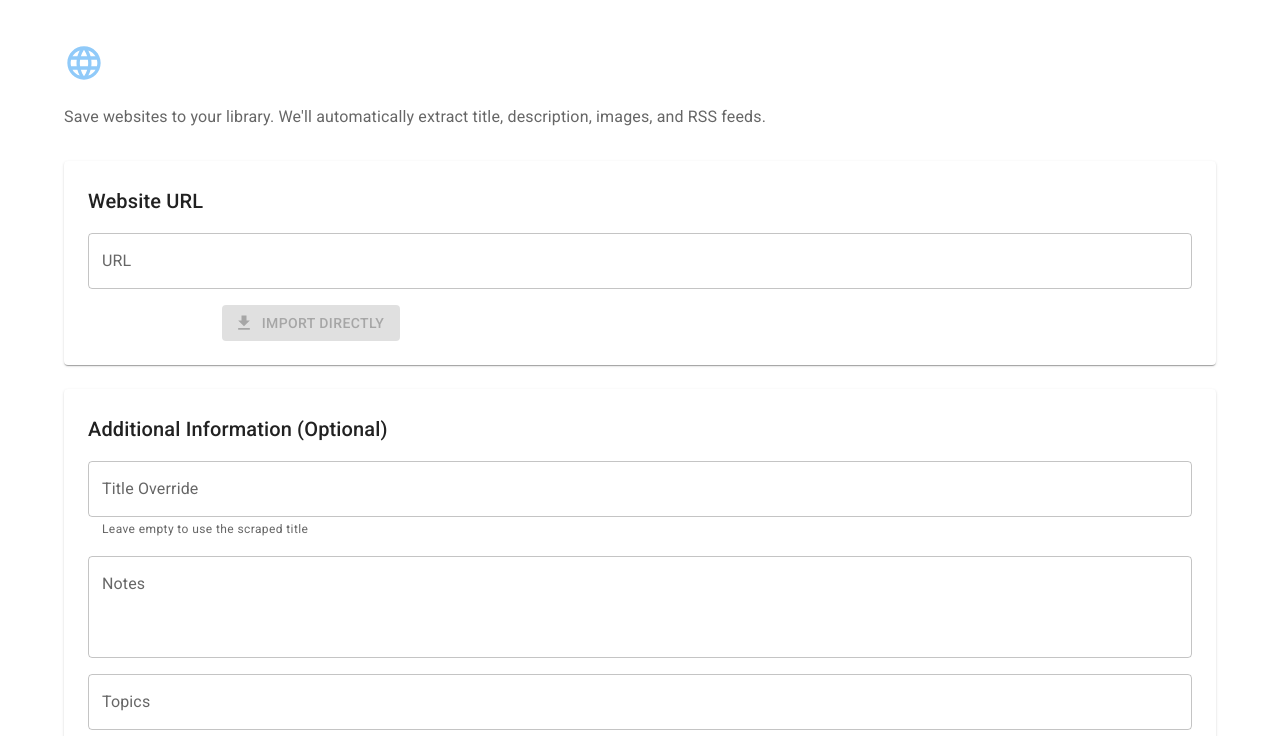
WebsiteImportPage › should show error for invalid URL format
Type "not-a-valid-url" into the field with placeholder "https://example.com" at (640,261), box [88,233,1192,289]
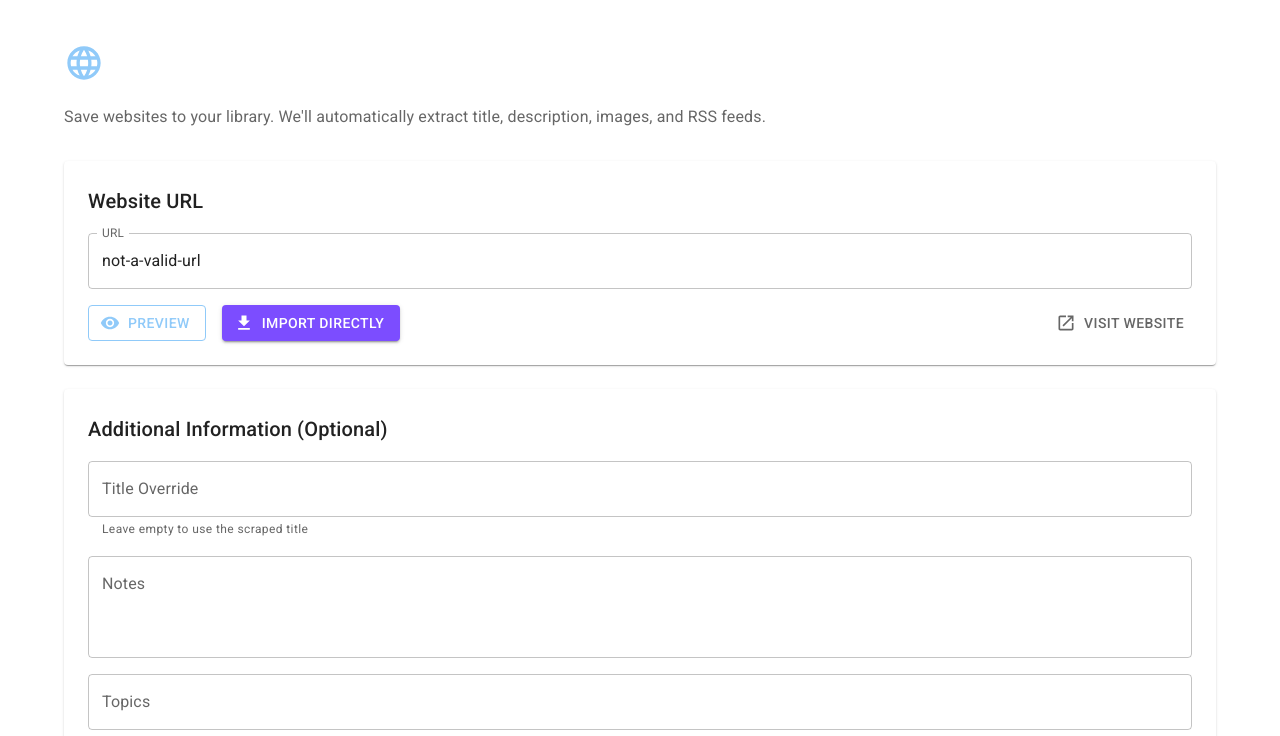
Click the button "Preview" at (147,323), box [88,305,206,341]
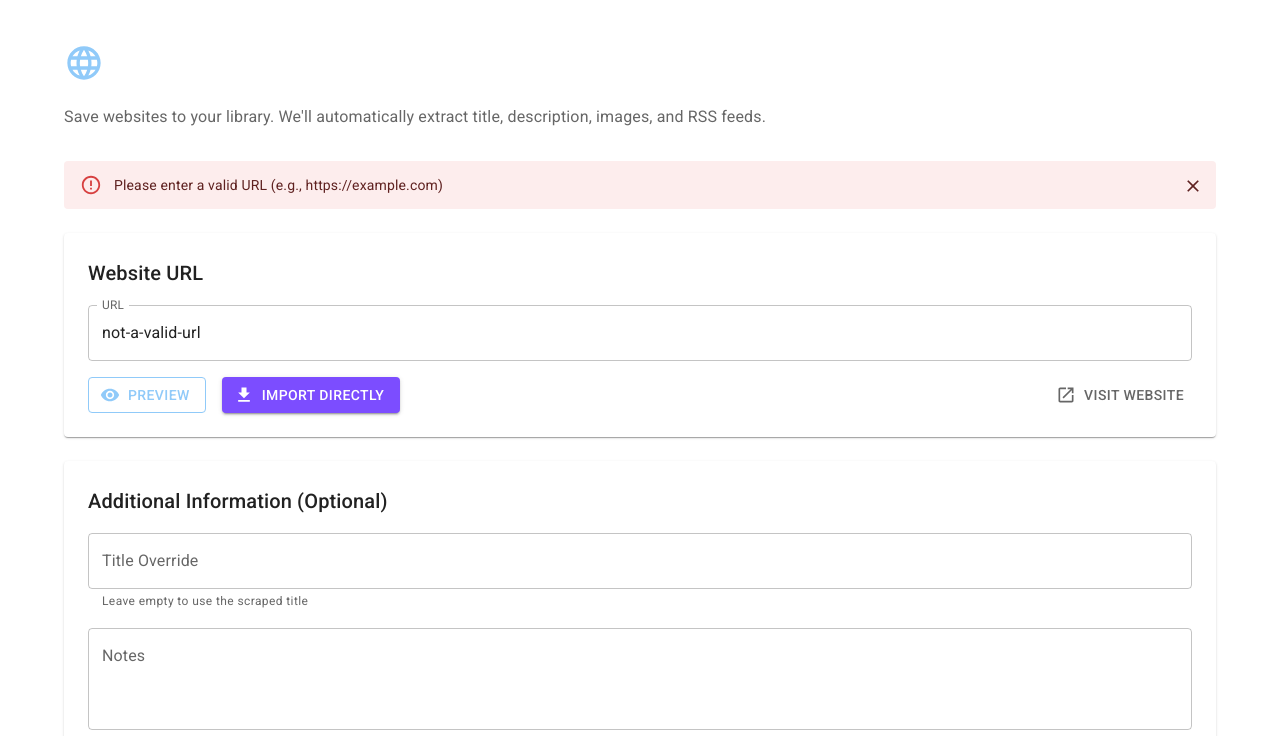
Now the text "Please enter a valid URL (e.g., https://example.com)" is shown, box [114,177,443,193]
